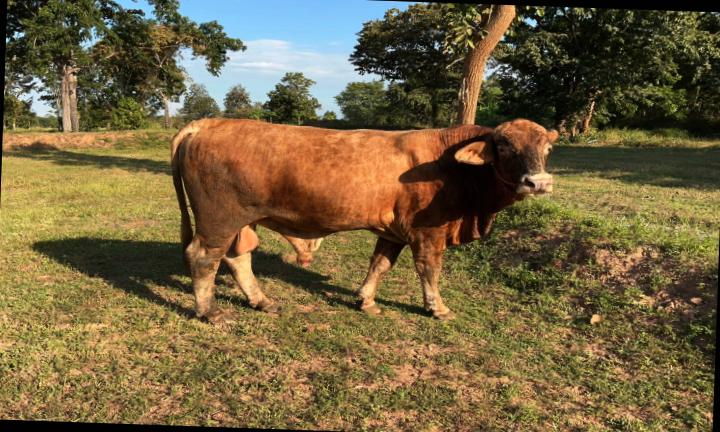Charolais: (171, 119, 557, 323)
